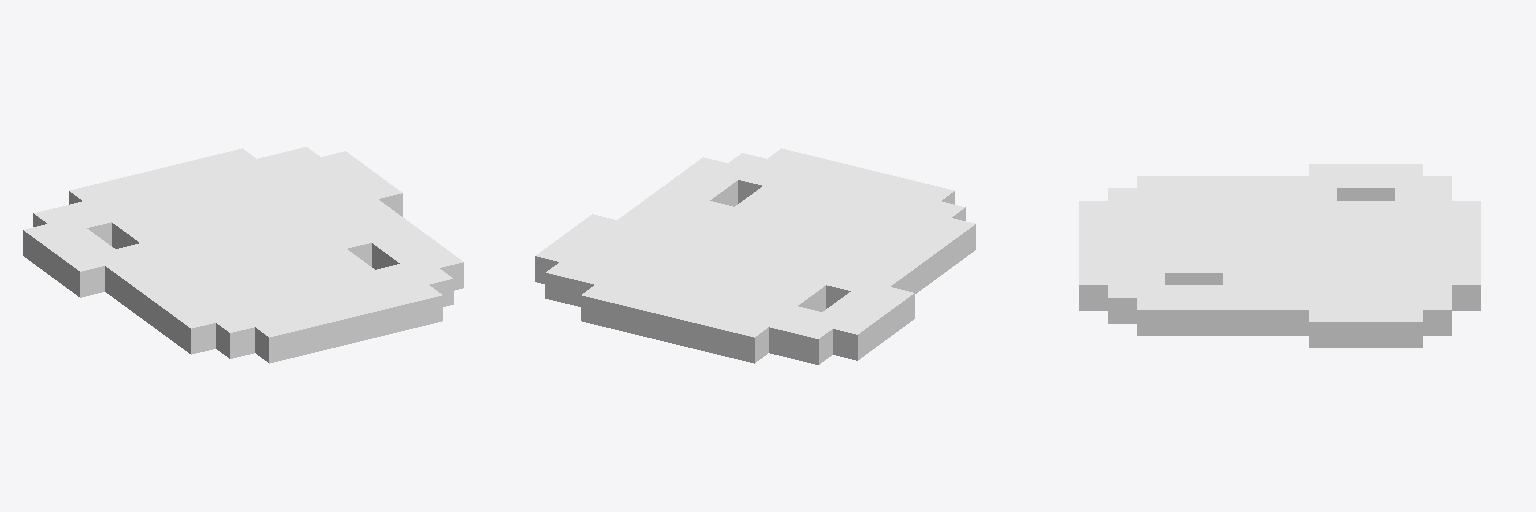
Rendered from Brod.obj.
The picture shows the model from 3 angles: view 1: azimuth 30°, elevation 25°; view 2: azimuth 150°, elevation 25°; view 3: azimuth 270°, elevation 25°; orthographic projection.
Parts seen in each view (by area): view 1: object 1; view 2: object 1; view 3: object 1.
Boxes of the visible parts, x1=… form: object 1: x1=23, y1=147, x2=463, y2=363; object 1: x1=535, y1=148, x2=975, y2=364; object 1: x1=1079, y1=164, x2=1480, y2=347.
Size of the model in its own units: 1.3 by 0.1 by 1.4.